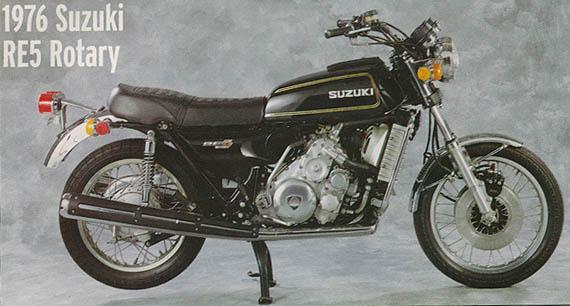motorcycle: (31, 6, 570, 300)
